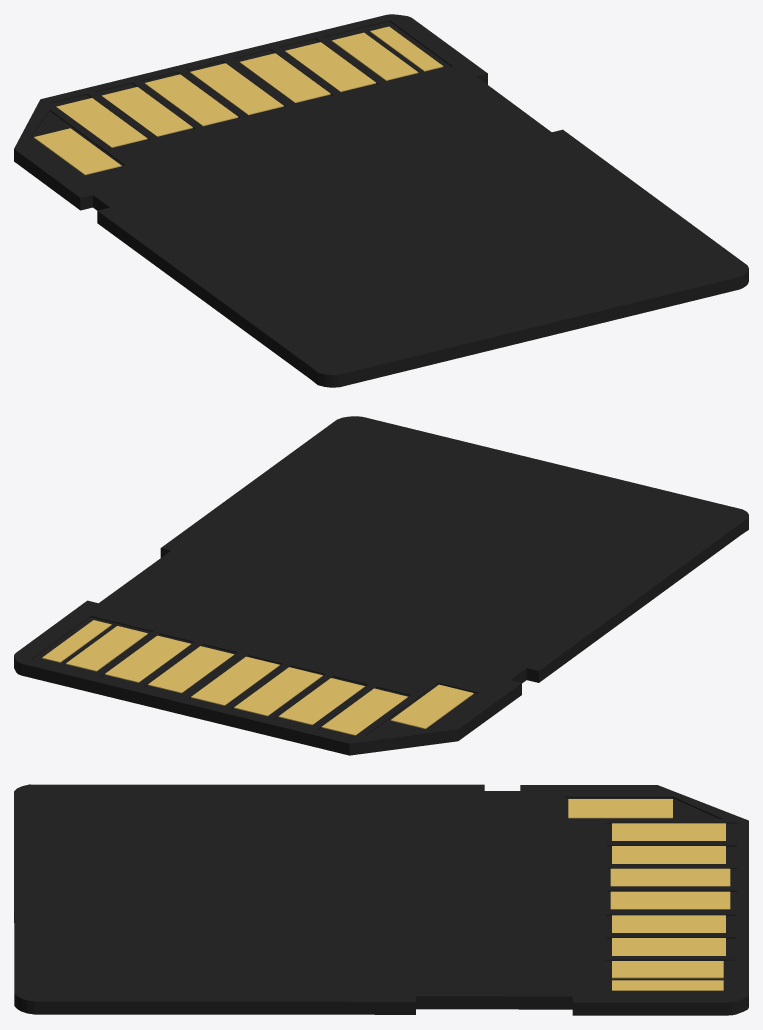
The model's file is SD_Card.dae.
The picture shows the model from 3 angles, top to bottom: view 1: azimuth 30°, elevation 25°; view 2: azimuth 150°, elevation 25°; view 3: azimuth 270°, elevation 25°; orthographic projection. The views are drawn at different scales.
Visible parts, largest first — view 1: SD_Card; view 2: SD_Card; view 3: SD_Card.
Boxes of the visible parts, x1,y1,x2,y2 form: SD_Card: (14,14,748,387); SD_Card: (14,416,748,755); SD_Card: (14,784,748,1015).
Bounding box in the file's own units: 1.17 × 1.67 × 0.0326.
